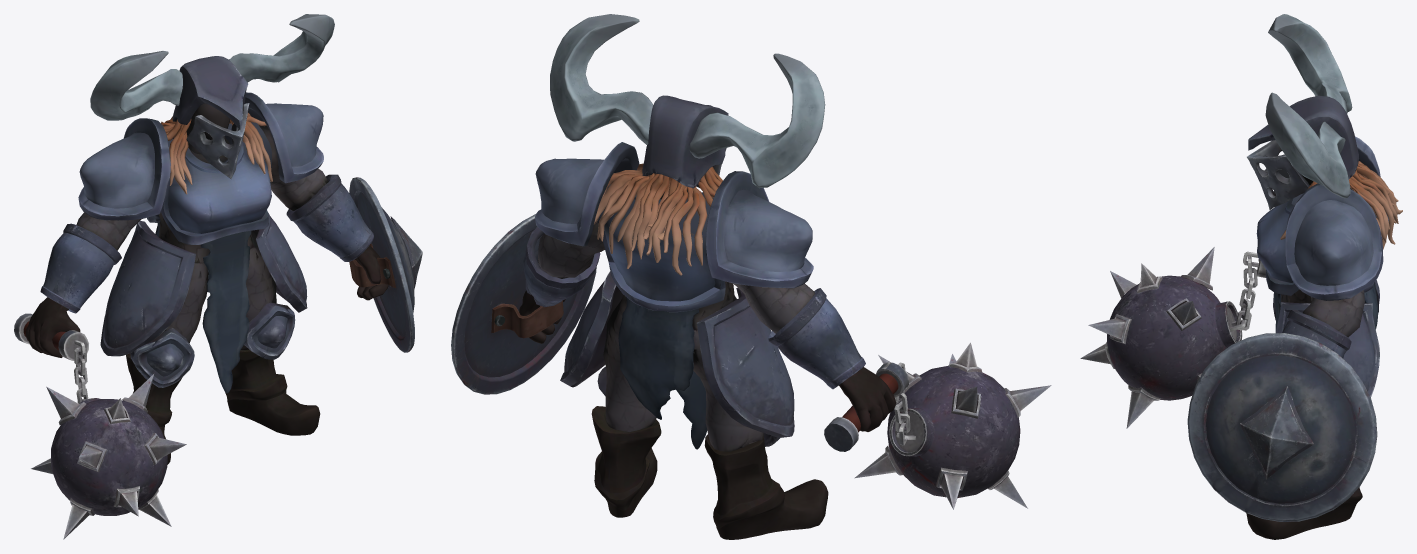
The model's file is affiliations.glb.
3 renders of one model, left to right at view 1: azimuth 30°, elevation 25°; view 2: azimuth 150°, elevation 25°; view 3: azimuth 270°, elevation 25°, orthographic. The views are drawn at different scales.
Visible parts, largest first — view 1: knight, guns; view 2: knight, guns; view 3: guns, knight.
Part boxes in pixels (x1,y1,x2,y2): knight: (25,14,388,464); guns: (14,177,422,539); knight: (519,14,896,539); guns: (451,214,1051,509); guns: (1080,247,1377,521); knight: (1246,14,1402,539).
Size of the model in its own units: 1.8 by 1.68 by 1.13.
Materials: 3 (3 with a texture image).
